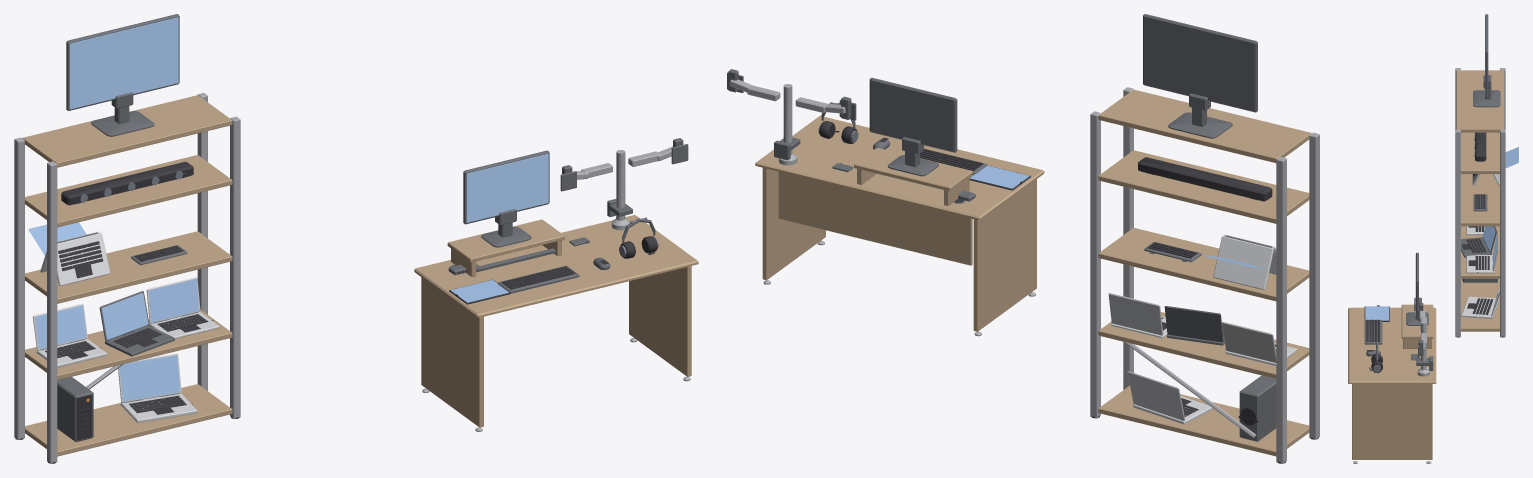
The model's file is computers-and-desk-gadgets-accessory-stock-wall-4ecc1f78__38879.glb.
3 renders of one model, left to right at view 1: azimuth 30°, elevation 25°; view 2: azimuth 150°, elevation 25°; view 3: azimuth 270°, elevation 25°, orthographic. The views are drawn at different scales.
Visible parts, largest first — view 1: 000-shelf-4-tier/2, 010-desk-1400/0, 000-shelf-4-tier/0, 009-monitor-32-4k/1, 012-monitor-24-flat/1, 009-monitor-32-4k/0, 011-monitor-riser-shelf/0, 002-laptop-open-16/3, 008-speaker-soundbar/0, 012-monitor-24-flat/0, 005-laptop-convertible-flip/3, 013-monitor-arm-dual/2 (+14 smaller); view 2: 010-desk-1400/0, 000-shelf-4-tier/2, 000-shelf-4-tier/0, 009-monitor-32-4k/0, 012-monitor-24-flat/0, 011-monitor-riser-shelf/0, 006-laptop-convertible-tent/0, 002-laptop-open-16/0, 008-speaker-soundbar/0, 001-desktop-small-form-factor/0, 004-laptop-open-14-graphite/0, 005-laptop-convertible-flip/0 (+5 smaller); view 3: 010-desk-1400/0, 000-shelf-4-tier/2, 000-shelf-4-tier/0, 011-monitor-riser-shelf/0, 009-monitor-32-4k/0, 002-laptop-open-16/0, 005-laptop-convertible-flip/0, 012-monitor-24-flat/0, 013-monitor-arm-dual/2, 004-laptop-open-14-graphite/0, 008-speaker-soundbar/0, 016-tablet-13-pro/1 (+9 smaller).
Boxes of the visible parts, x1=… form: 000-shelf-4-tier/2: x1=22, y1=95, x2=232, y2=456; 010-desk-1400/0: x1=414, y1=215, x2=698, y2=427; 000-shelf-4-tier/0: x1=14, y1=93, x2=240, y2=463; 009-monitor-32-4k/1: x1=69, y1=17, x2=178, y2=109; 012-monitor-24-flat/1: x1=466, y1=154, x2=548, y2=222; 009-monitor-32-4k/0: x1=66, y1=14, x2=179, y2=136; 011-monitor-riser-shelf/0: x1=447, y1=219, x2=564, y2=276; 002-laptop-open-16/3: x1=119, y1=355, x2=180, y2=401; 008-speaker-soundbar/0: x1=61, y1=161, x2=193, y2=205; 012-monitor-24-flat/0: x1=463, y1=150, x2=549, y2=247; 005-laptop-convertible-flip/3: x1=148, y1=279, x2=199, y2=322; 013-monitor-arm-dual/2: x1=577, y1=146, x2=672, y2=230; 010-desk-1400/0: x1=755, y1=116, x2=1044, y2=331; 000-shelf-4-tier/2: x1=1098, y1=89, x2=1311, y2=456; 000-shelf-4-tier/0: x1=1090, y1=87, x2=1319, y2=463; 009-monitor-32-4k/0: x1=1143, y1=14, x2=1257, y2=138; 012-monitor-24-flat/0: x1=869, y1=77, x2=957, y2=176; 011-monitor-riser-shelf/0: x1=854, y1=147, x2=972, y2=206; 006-laptop-convertible-tent/0: x1=1213, y1=234, x2=1276, y2=289; 002-laptop-open-16/0: x1=1127, y1=371, x2=1212, y2=424; 008-speaker-soundbar/0: x1=1138, y1=157, x2=1272, y2=201; 001-desktop-small-form-factor/0: x1=1239, y1=375, x2=1276, y2=441; 004-laptop-open-14-graphite/0: x1=1164, y1=306, x2=1224, y2=345; 005-laptop-convertible-flip/0: x1=1108, y1=293, x2=1167, y2=338; 010-desk-1400/0: x1=1348, y1=307, x2=1436, y2=459; 000-shelf-4-tier/2: x1=1456, y1=70, x2=1504, y2=331; 000-shelf-4-tier/0: x1=1455, y1=68, x2=1505, y2=337; 011-monitor-riser-shelf/0: x1=1401, y1=304, x2=1433, y2=348; 009-monitor-32-4k/0: x1=1473, y1=14, x2=1500, y2=107; 002-laptop-open-16/0: x1=1461, y1=287, x2=1499, y2=318; 005-laptop-convertible-flip/0: x1=1466, y1=233, x2=1498, y2=273; 012-monitor-24-flat/0: x1=1406, y1=252, x2=1428, y2=325; 013-monitor-arm-dual/2: x1=1417, y1=309, x2=1429, y2=376; 004-laptop-open-14-graphite/0: x1=1461, y1=226, x2=1497, y2=257; 008-speaker-soundbar/0: x1=1475, y1=132, x2=1486, y2=161; 016-tablet-13-pro/1: x1=1365, y1=306, x2=1388, y2=320.
Size of the model in its own units: 3.85 by 2.39 by 1.35.
